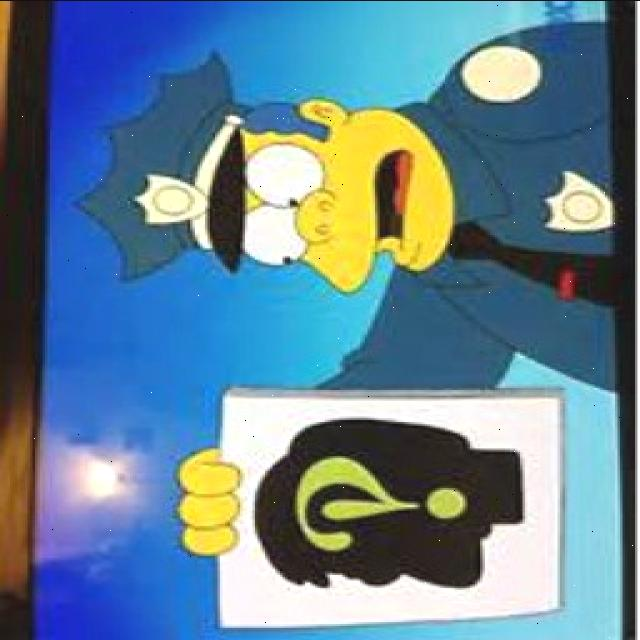Chief Wiggam: (84, 52, 462, 300)
